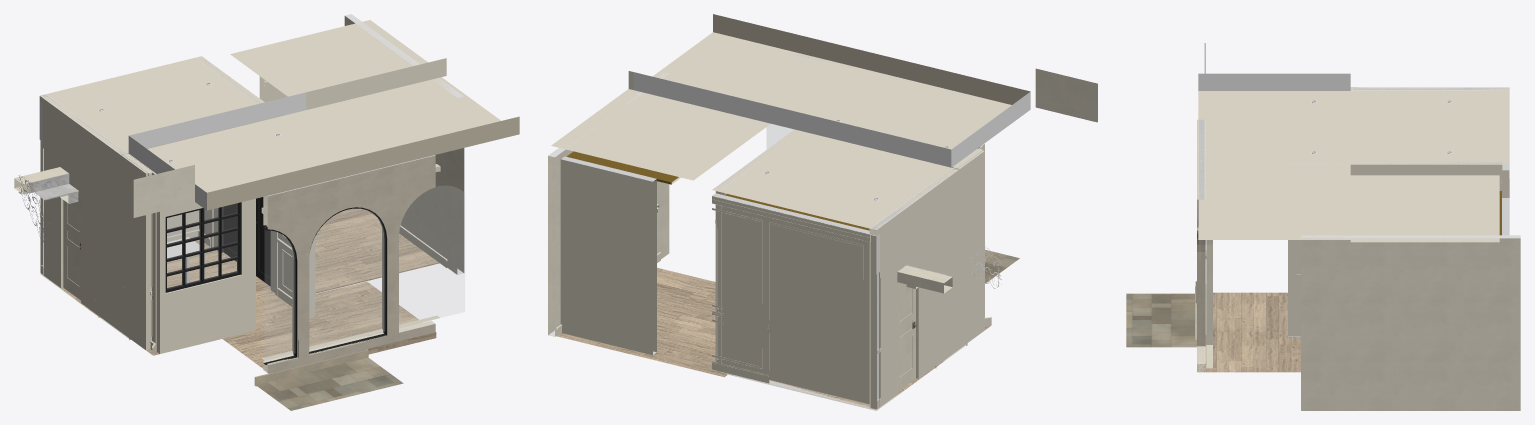
Rendered from office-west-f67aac81a562.glb.
3 renders of one model, left to right at view 1: azimuth 30°, elevation 25°; view 2: azimuth 150°, elevation 25°; view 3: azimuth 270°, elevation 25°, orthographic. The views are drawn at different scales.
Visible parts, largest first — view 1: office-west-look-dbd60ee5c3733ed6, office-west-6a051330000fbca1, office-west-look-c9e78b9ec1bb39cd, office-west-look-2575515a05775d9e, office-west-2575515a05775d9e, office-west-look-c02a36d0521470a9, office-west-a822d30aa9e2c55a, office-west-look-5cbcc744e6f960f3, office-west-look-c374268555806af8, office-west-look-3b0077416469e01b, office-west-look-6a1144f4e43410bb, office-west-dbd60ee5c3733ed6 (+21 smaller); view 2: office-west-look-dbd60ee5c3733ed6, office-west-19647d6da46c2b80, office-west-6a051330000fbca1, office-west-look-19647d6da46c2b80, office-west-2575515a05775d9e, office-west-look-2575515a05775d9e, office-west-look-3b0077416469e01b, office-west-look-6a1144f4e43410bb, office-west-look-34525a54e63b733b, office-west-dbd60ee5c3733ed6, office-west-80d276f58a4dc5cb, office-west-72f8f5982ac3dc36 (+6 smaller); view 3: office-west-look-6a1144f4e43410bb, office-west-look-dbd60ee5c3733ed6, office-west-2575515a05775d9e, office-west-look-2575515a05775d9e, office-west-look-c374268555806af8, office-west-dbd60ee5c3733ed6, office-west-look-982408871810a50e, office-west-72f8f5982ac3dc36, office-west-look-c9e78b9ec1bb39cd, office-west-0811b6b476584948, office-west-look-e54cb06e326b7f4f, office-west-6a051330000fbca1 (+2 smaller).
Boxes of the visible parts, left/top/right/bottom form: office-west-look-dbd60ee5c3733ed6: left=128, top=77, right=519, bottom=210; office-west-6a051330000fbca1: left=39, top=94, right=156, bottom=351; office-west-look-c9e78b9ec1bb39cd: left=263, top=155, right=435, bottom=372; office-west-look-2575515a05775d9e: left=230, top=20, right=446, bottom=109; office-west-2575515a05775d9e: left=40, top=56, right=282, bottom=155; office-west-look-c02a36d0521470a9: left=309, top=209, right=385, bottom=349; office-west-a822d30aa9e2c55a: left=156, top=139, right=307, bottom=353; office-west-look-5cbcc744e6f960f3: left=399, top=186, right=464, bottom=327; office-west-look-c374268555806af8: left=223, top=281, right=436, bottom=370; office-west-look-3b0077416469e01b: left=315, top=208, right=439, bottom=293; office-west-look-6a1144f4e43410bb: left=344, top=14, right=464, bottom=274; office-west-dbd60ee5c3733ed6: left=128, top=116, right=314, bottom=173; office-west-look-dbd60ee5c3733ed6: left=633, top=14, right=1030, bottom=166; office-west-19647d6da46c2b80: left=712, top=193, right=869, bottom=407; office-west-6a051330000fbca1: left=869, top=146, right=984, bottom=408; office-west-look-19647d6da46c2b80: left=560, top=156, right=656, bottom=355; office-west-2575515a05775d9e: left=712, top=129, right=958, bottom=228; office-west-look-2575515a05775d9e: left=551, top=71, right=770, bottom=180; office-west-look-3b0077416469e01b: left=557, top=267, right=727, bottom=377; office-west-look-6a1144f4e43410bb: left=548, top=72, right=669, bottom=336; office-west-look-34525a54e63b733b: left=1035, top=68, right=1097, bottom=122; office-west-dbd60ee5c3733ed6: left=794, top=105, right=983, bottom=167; office-west-80d276f58a4dc5cb: left=898, top=282, right=915, bottom=391; office-west-72f8f5982ac3dc36: left=715, top=141, right=784, bottom=363; office-west-look-6a1144f4e43410bb: left=1301, top=235, right=1520, bottom=410; office-west-look-dbd60ee5c3733ed6: left=1198, top=73, right=1350, bottom=239; office-west-2575515a05775d9e: left=1350, top=87, right=1509, bottom=164; office-west-look-2575515a05775d9e: left=1350, top=175, right=1499, bottom=242; office-west-look-c374268555806af8: left=1197, top=292, right=1300, bottom=372; office-west-dbd60ee5c3733ed6: left=1288, top=90, right=1350, bottom=164; office-west-look-982408871810a50e: left=1126, top=293, right=1196, bottom=347; office-west-72f8f5982ac3dc36: left=1288, top=162, right=1502, bottom=336; office-west-look-c9e78b9ec1bb39cd: left=1197, top=119, right=1205, bottom=371; office-west-0811b6b476584948: left=1350, top=164, right=1502, bottom=171; office-west-look-e54cb06e326b7f4f: left=1206, top=240, right=1212, bottom=368; office-west-6a051330000fbca1: left=1350, top=87, right=1509, bottom=197.
Size of the model in its own units: 6.87 by 3.92 by 6.21.
30 materials, 9 textured.
